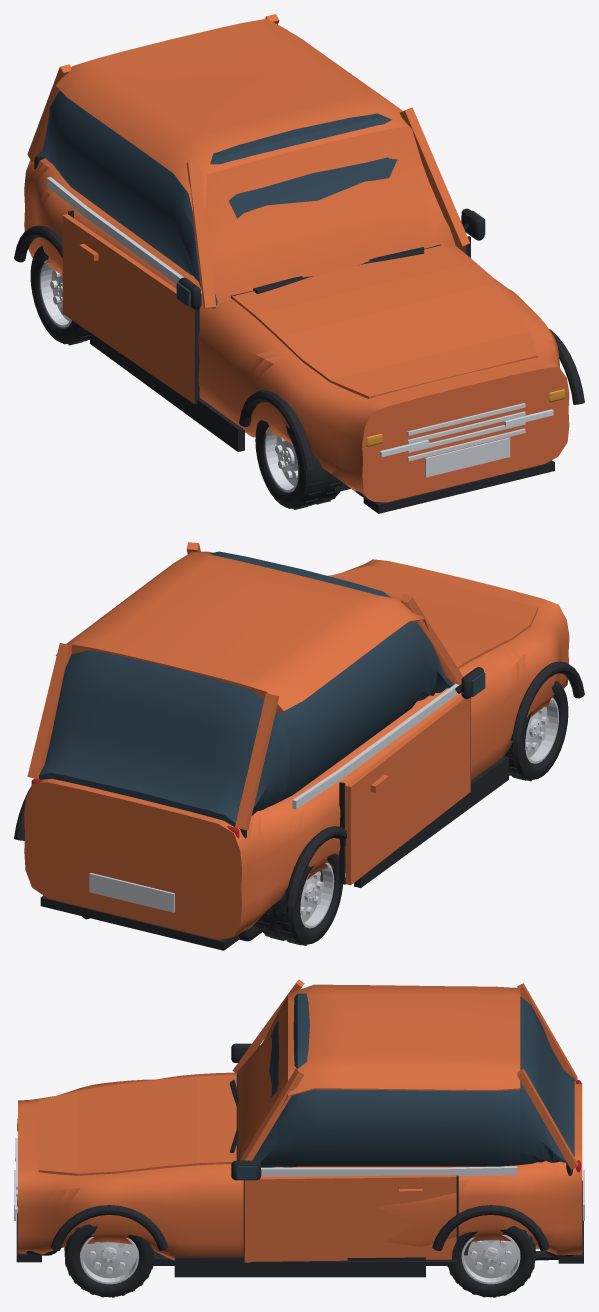
Rendered from CityCarHD.fbx.
3 views of the same model, one above another, from view 1: azimuth 30°, elevation 25°; view 2: azimuth 150°, elevation 25°; view 3: azimuth 270°, elevation 25° (orthographic). The views are drawn at different scales.
Visible parts, largest first — view 1: body_city-car_0, body_bonnet.001, glass_city-car_2, body_door-front-left.001, trim_city-car_1, rim_city-car_6, trim_wheel-front-left_trim, trim_wheel-rear-left_trim, rim_wheel-front-left_alloy, rim_wheel-rear-left_alloy, lightwhite_city-car_4; view 2: body_city-car_0, glass_boot_glass, glass_city-car_2, body_door-front-left.001, trim_city-car_1, body_bonnet.001, rim_city-car_6, trim_wheel-rear-left_trim, trim_wheel-front-left_trim, rim_wheel-rear-left_alloy, rim_wheel-front-left_alloy; view 3: body_city-car_0, glass_city-car_2, body_bonnet.001, body_door-front-right.001, trim_city-car_1, glass_boot_glass, rim_city-car_6, trim_wheel-front-right_trim, trim_wheel-rear-right_trim, rim_wheel-rear-right_alloy, rim_wheel-front-right_alloy.
Part boxes in pixels (x1,y1,x2,y2): body_city-car_0: [24, 14, 569, 502]; body_bonnet.001: [232, 245, 538, 398]; glass_city-car_2: [49, 91, 485, 308]; body_door-front-left.001: [62, 214, 194, 403]; trim_city-car_1: [14, 154, 584, 513]; rim_city-car_6: [47, 177, 525, 477]; trim_wheel-front-left_trim: [255, 420, 342, 509]; trim_wheel-rear-left_trim: [30, 246, 89, 345]; rim_wheel-front-left_alloy: [264, 427, 298, 492]; rim_wheel-rear-left_alloy: [40, 260, 71, 327]; lightwhite_city-car_4: [379, 409, 553, 457]; body_city-car_0: [24, 542, 569, 939]; glass_boot_glass: [39, 650, 289, 826]; glass_city-car_2: [90, 551, 485, 802]; body_door-front-left.001: [345, 696, 470, 885]; trim_city-car_1: [14, 661, 584, 950]; body_bonnet.001: [329, 566, 538, 668]; rim_city-car_6: [89, 683, 458, 912]; trim_wheel-rear-left_trim: [257, 853, 342, 945]; trim_wheel-front-left_trim: [504, 681, 568, 781]; rim_wheel-rear-left_alloy: [300, 862, 334, 928]; rim_wheel-front-left_alloy: [525, 697, 558, 763]; body_city-car_0: [18, 979, 582, 1260]; glass_city-car_2: [236, 993, 520, 1179]; body_bonnet.001: [38, 1074, 236, 1175]; body_door-front-right.001: [244, 1175, 457, 1262]; trim_city-car_1: [16, 1043, 583, 1277]; glass_boot_glass: [520, 996, 574, 1164]; rim_city-car_6: [14, 1138, 584, 1249]; trim_wheel-front-right_trim: [64, 1224, 154, 1297]; trim_wheel-rear-right_trim: [446, 1226, 535, 1297]; rim_wheel-rear-right_alloy: [461, 1234, 520, 1284]; rim_wheel-front-right_alloy: [80, 1237, 138, 1284].
Size of the model in its own units: 230 by 193 by 453.
